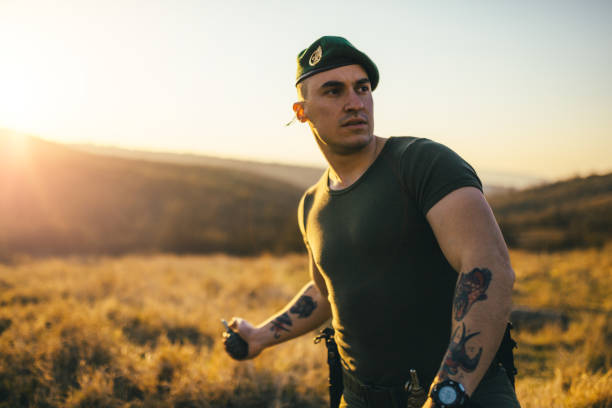e1: (216, 316, 251, 362)
